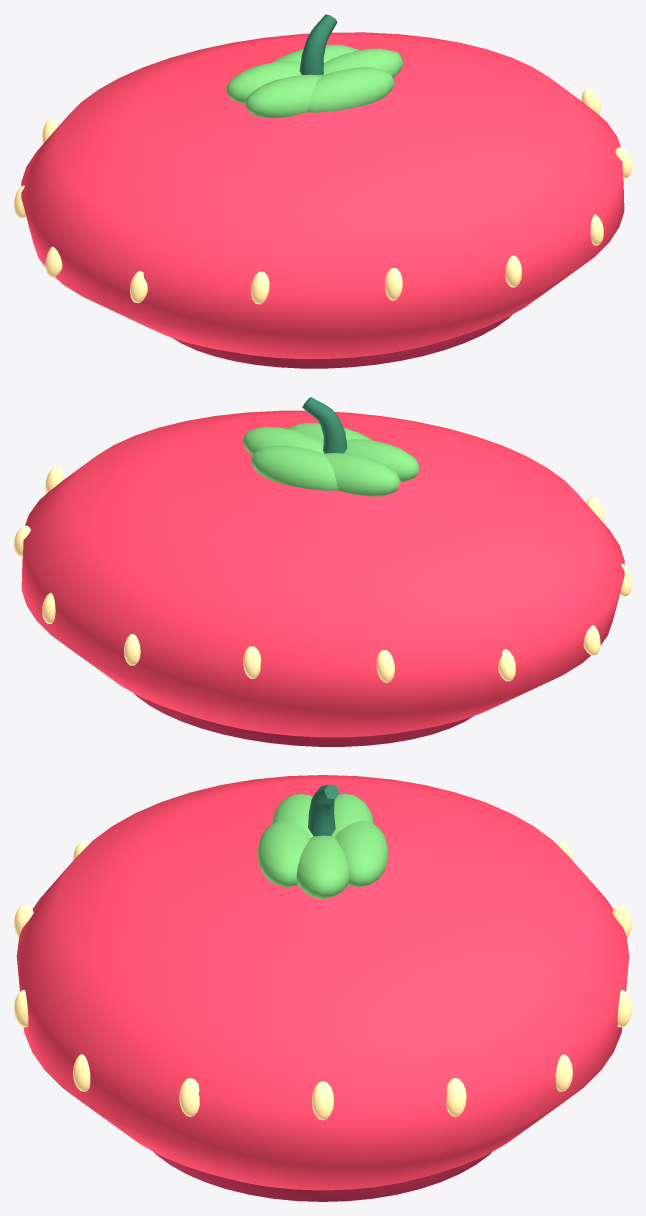
The model's file is berry_beret.glb.
3 views of the same model, one above another, from view 1: azimuth 30°, elevation 25°; view 2: azimuth 150°, elevation 25°; view 3: azimuth 270°, elevation 25° (orthographic). The views are drawn at different scales.
Parts seen in each view (by area): view 1: Strawberry Beret; view 2: Strawberry Beret; view 3: Strawberry Beret.
Boxes of the visible parts, left/top/right/bottom form: Strawberry Beret: left=14, top=14, right=631, bottom=368; Strawberry Beret: left=14, top=397, right=631, bottom=746; Strawberry Beret: left=14, top=775, right=631, bottom=1201.
Size of the model in its own units: 1 by 0.4822 by 0.8466.
